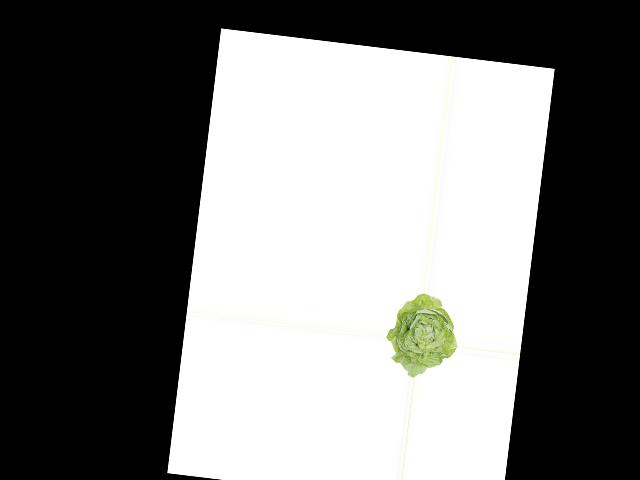lettuce: (382, 289, 462, 379)
